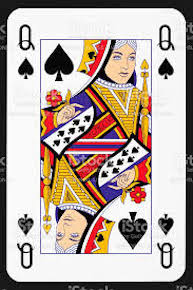QueenOfSpades: (5, 3, 188, 286)
